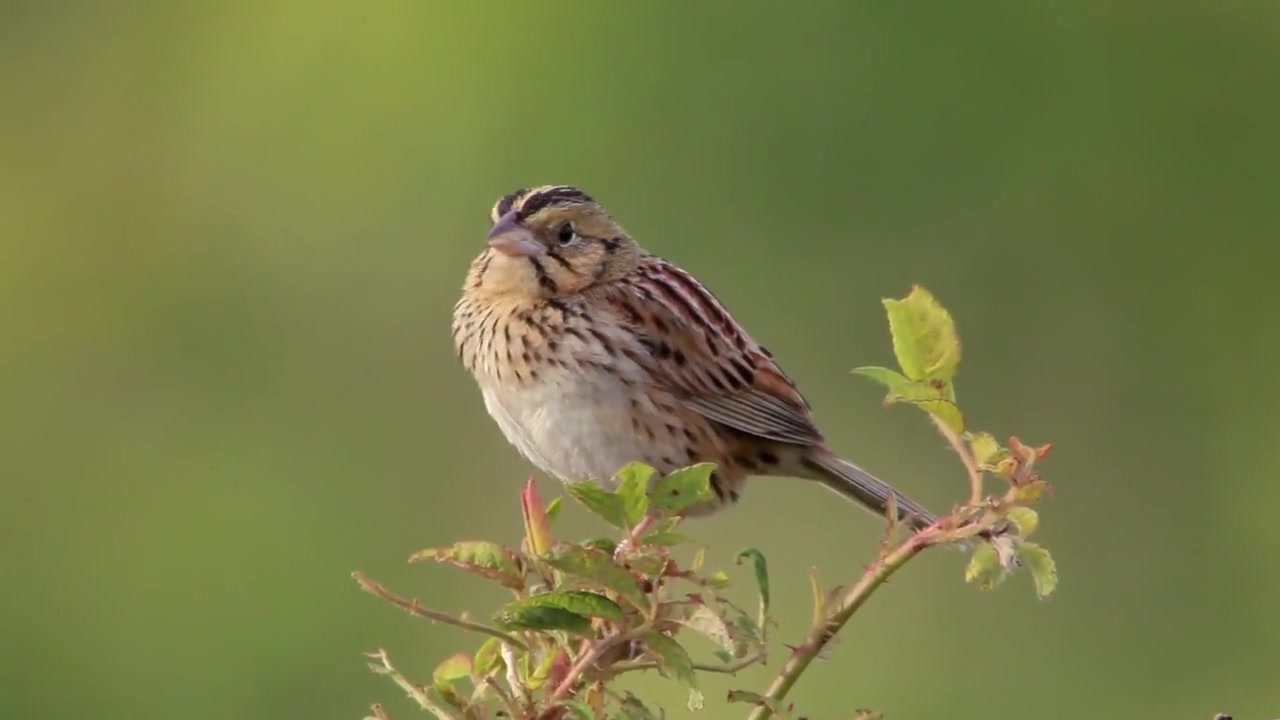bird: (452, 183, 956, 538)
